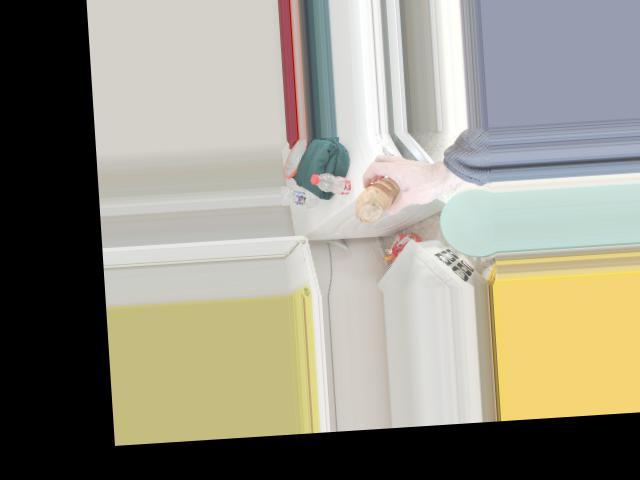sweet_potato: (354, 176, 404, 220)
